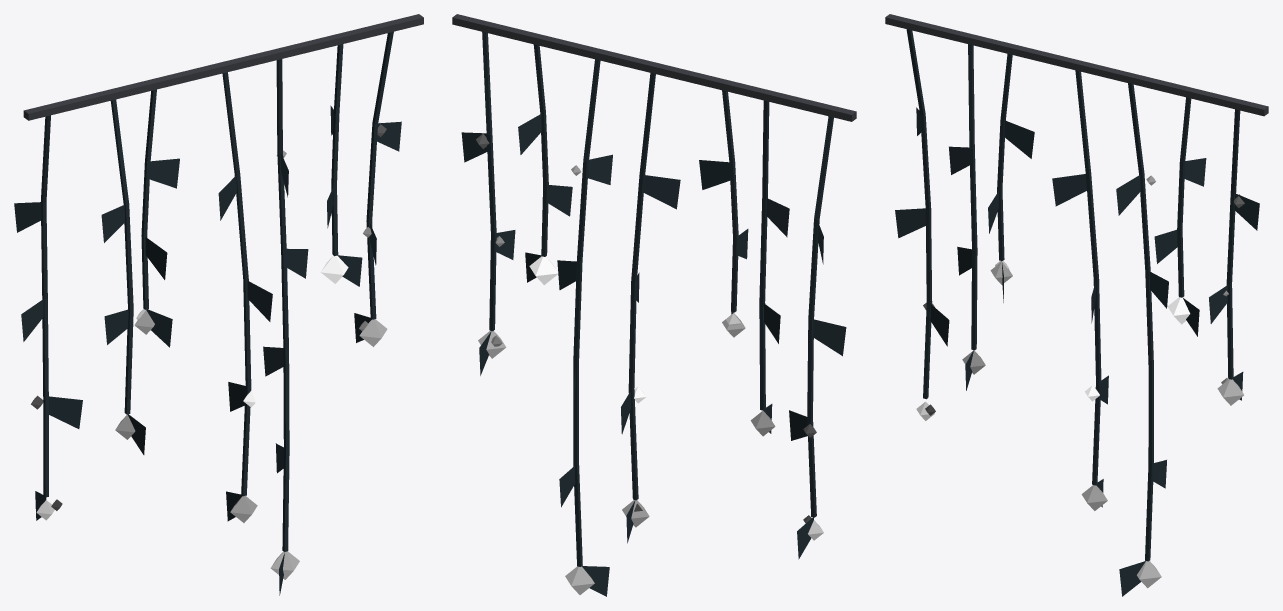
Rendered from vine_curtain_a.glb.
The picture shows the model from 3 angles, left to right: view 1: azimuth 30°, elevation 25°; view 2: azimuth 150°, elevation 25°; view 3: azimuth 330°, elevation 25°; orthographic projection. The views are drawn at different scales.
Visible parts, largest first — view 1: vine_curtain_a; view 2: vine_curtain_a; view 3: vine_curtain_a.
Boxes of the visible parts, <box> form: vine_curtain_a: <box>14,14,423,595</box>; vine_curtain_a: <box>452,14,856,596</box>; vine_curtain_a: <box>885,14,1268,596</box>.
Bounding box in the file's own units: 2.4 × 3.15 × 0.4541.
3 materials, 1 textured.
